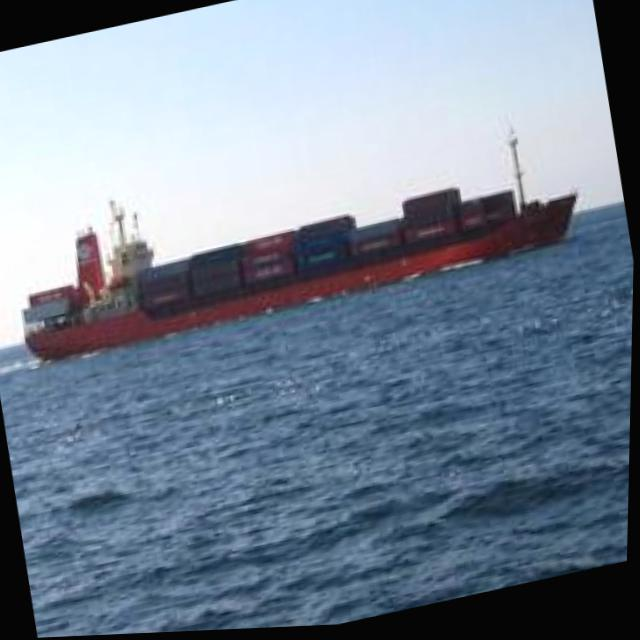ship2: (22, 151, 577, 363)
